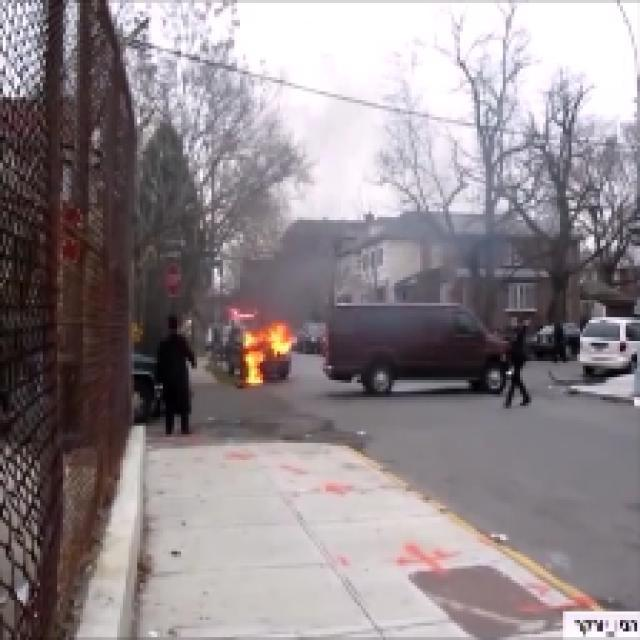Smoke: (234, 326, 290, 386)
